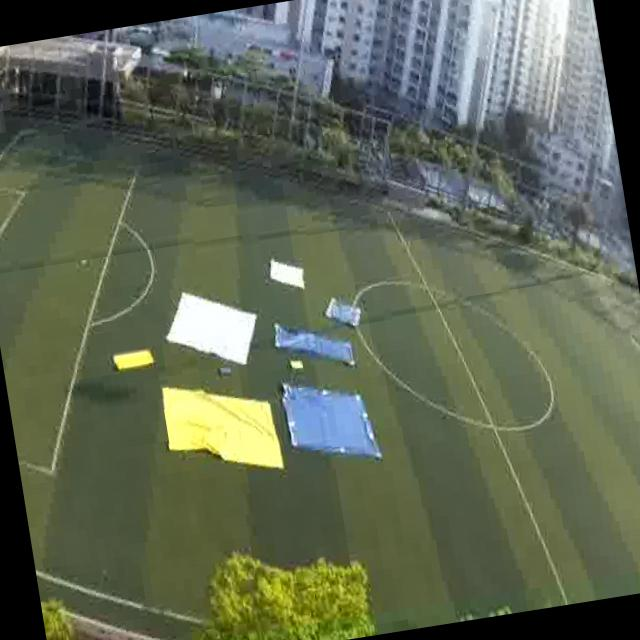danger: (278, 367, 385, 473), (268, 311, 328, 358), (322, 286, 368, 336)
safety: (157, 271, 270, 379), (260, 245, 314, 302)
warning: (158, 367, 290, 490), (110, 340, 158, 380)
